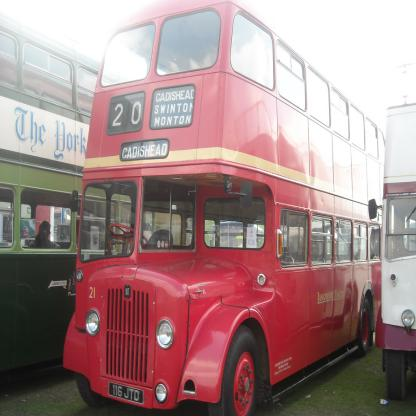Bus: (62, 0, 390, 416), (0, 15, 211, 371), (376, 63, 415, 398)
